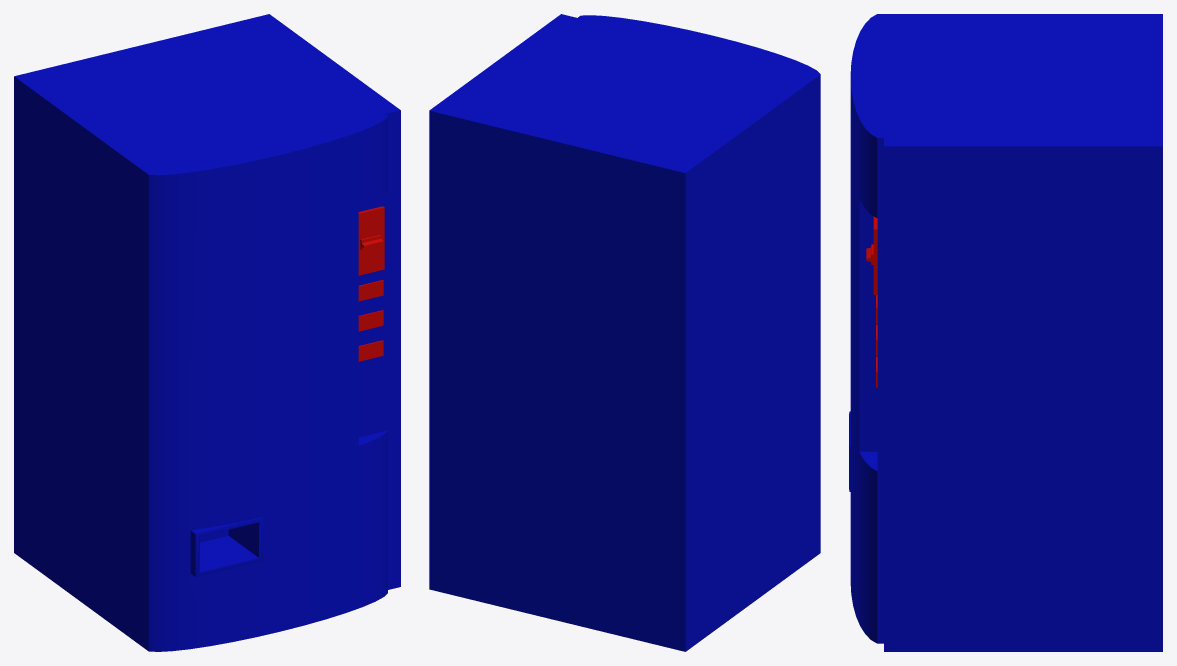
File: BetaColaController.fbx
3 views of the same model, side by side, from view 1: azimuth 30°, elevation 25°; view 2: azimuth 150°, elevation 25°; view 3: azimuth 270°, elevation 25° (orthographic). The views are drawn at different scales.
Visible parts, largest first — view 1: Maquina; view 2: Maquina; view 3: Maquina.
Boxes of the visible parts, bbox=[...] form: Maquina: bbox=[14, 14, 400, 651]; Maquina: bbox=[429, 14, 820, 651]; Maquina: bbox=[849, 14, 1162, 651].
Bounding box in the file's own units: 112 × 200 × 113.
